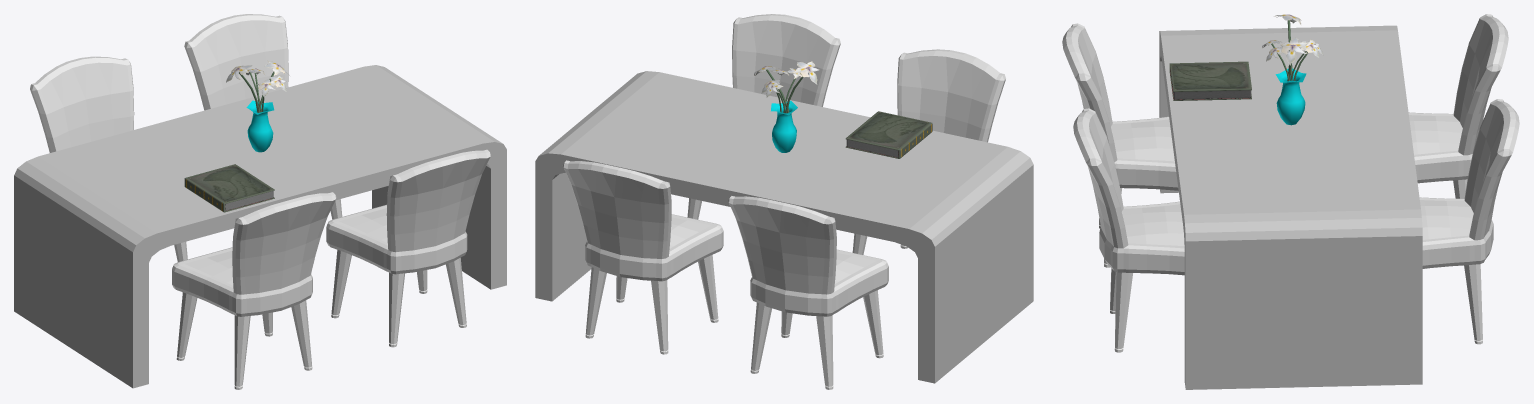
File: Mesas_sillas.fbx
3 renders of one model, left to right at view 1: azimuth 30°, elevation 25°; view 2: azimuth 150°, elevation 25°; view 3: azimuth 270°, elevation 25°, orthographic. The views are drawn at different scales.
Parts seen in each view (by area): view 1: Plane.046, Cube.027, 10266_Books_Literature_L3.005, Caule2.005, Jarro2.005; view 2: Plane.046, Cube.027, 10266_Books_Literature_L3.005, Caule2.005, Jarro2.005; view 3: Plane.046, Cube.027, 10266_Books_Literature_L3.005, Caule2.005, Jarro2.005.
Part boxes in pixels (bbox=[...]): Plane.046: bbox=[14, 65, 506, 388]; Cube.027: bbox=[30, 14, 490, 389]; 10266_Books_Literature_L3.005: bbox=[184, 164, 274, 212]; Caule2.005: bbox=[226, 60, 289, 112]; Jarro2.005: bbox=[246, 100, 274, 152]; Plane.046: bbox=[535, 71, 1033, 383]; Cube.027: bbox=[563, 14, 1005, 389]; 10266_Books_Literature_L3.005: bbox=[845, 111, 932, 158]; Caule2.005: bbox=[754, 61, 819, 113]; Jarro2.005: bbox=[771, 100, 797, 152]; Plane.046: bbox=[1159, 25, 1422, 389]; Cube.027: bbox=[1062, 14, 1519, 352]; 10266_Books_Literature_L3.005: bbox=[1169, 61, 1251, 100]; Caule2.005: bbox=[1262, 14, 1323, 81]; Jarro2.005: bbox=[1275, 68, 1306, 125].
Bounding box in the file's own units: 196 × 113 × 180.
